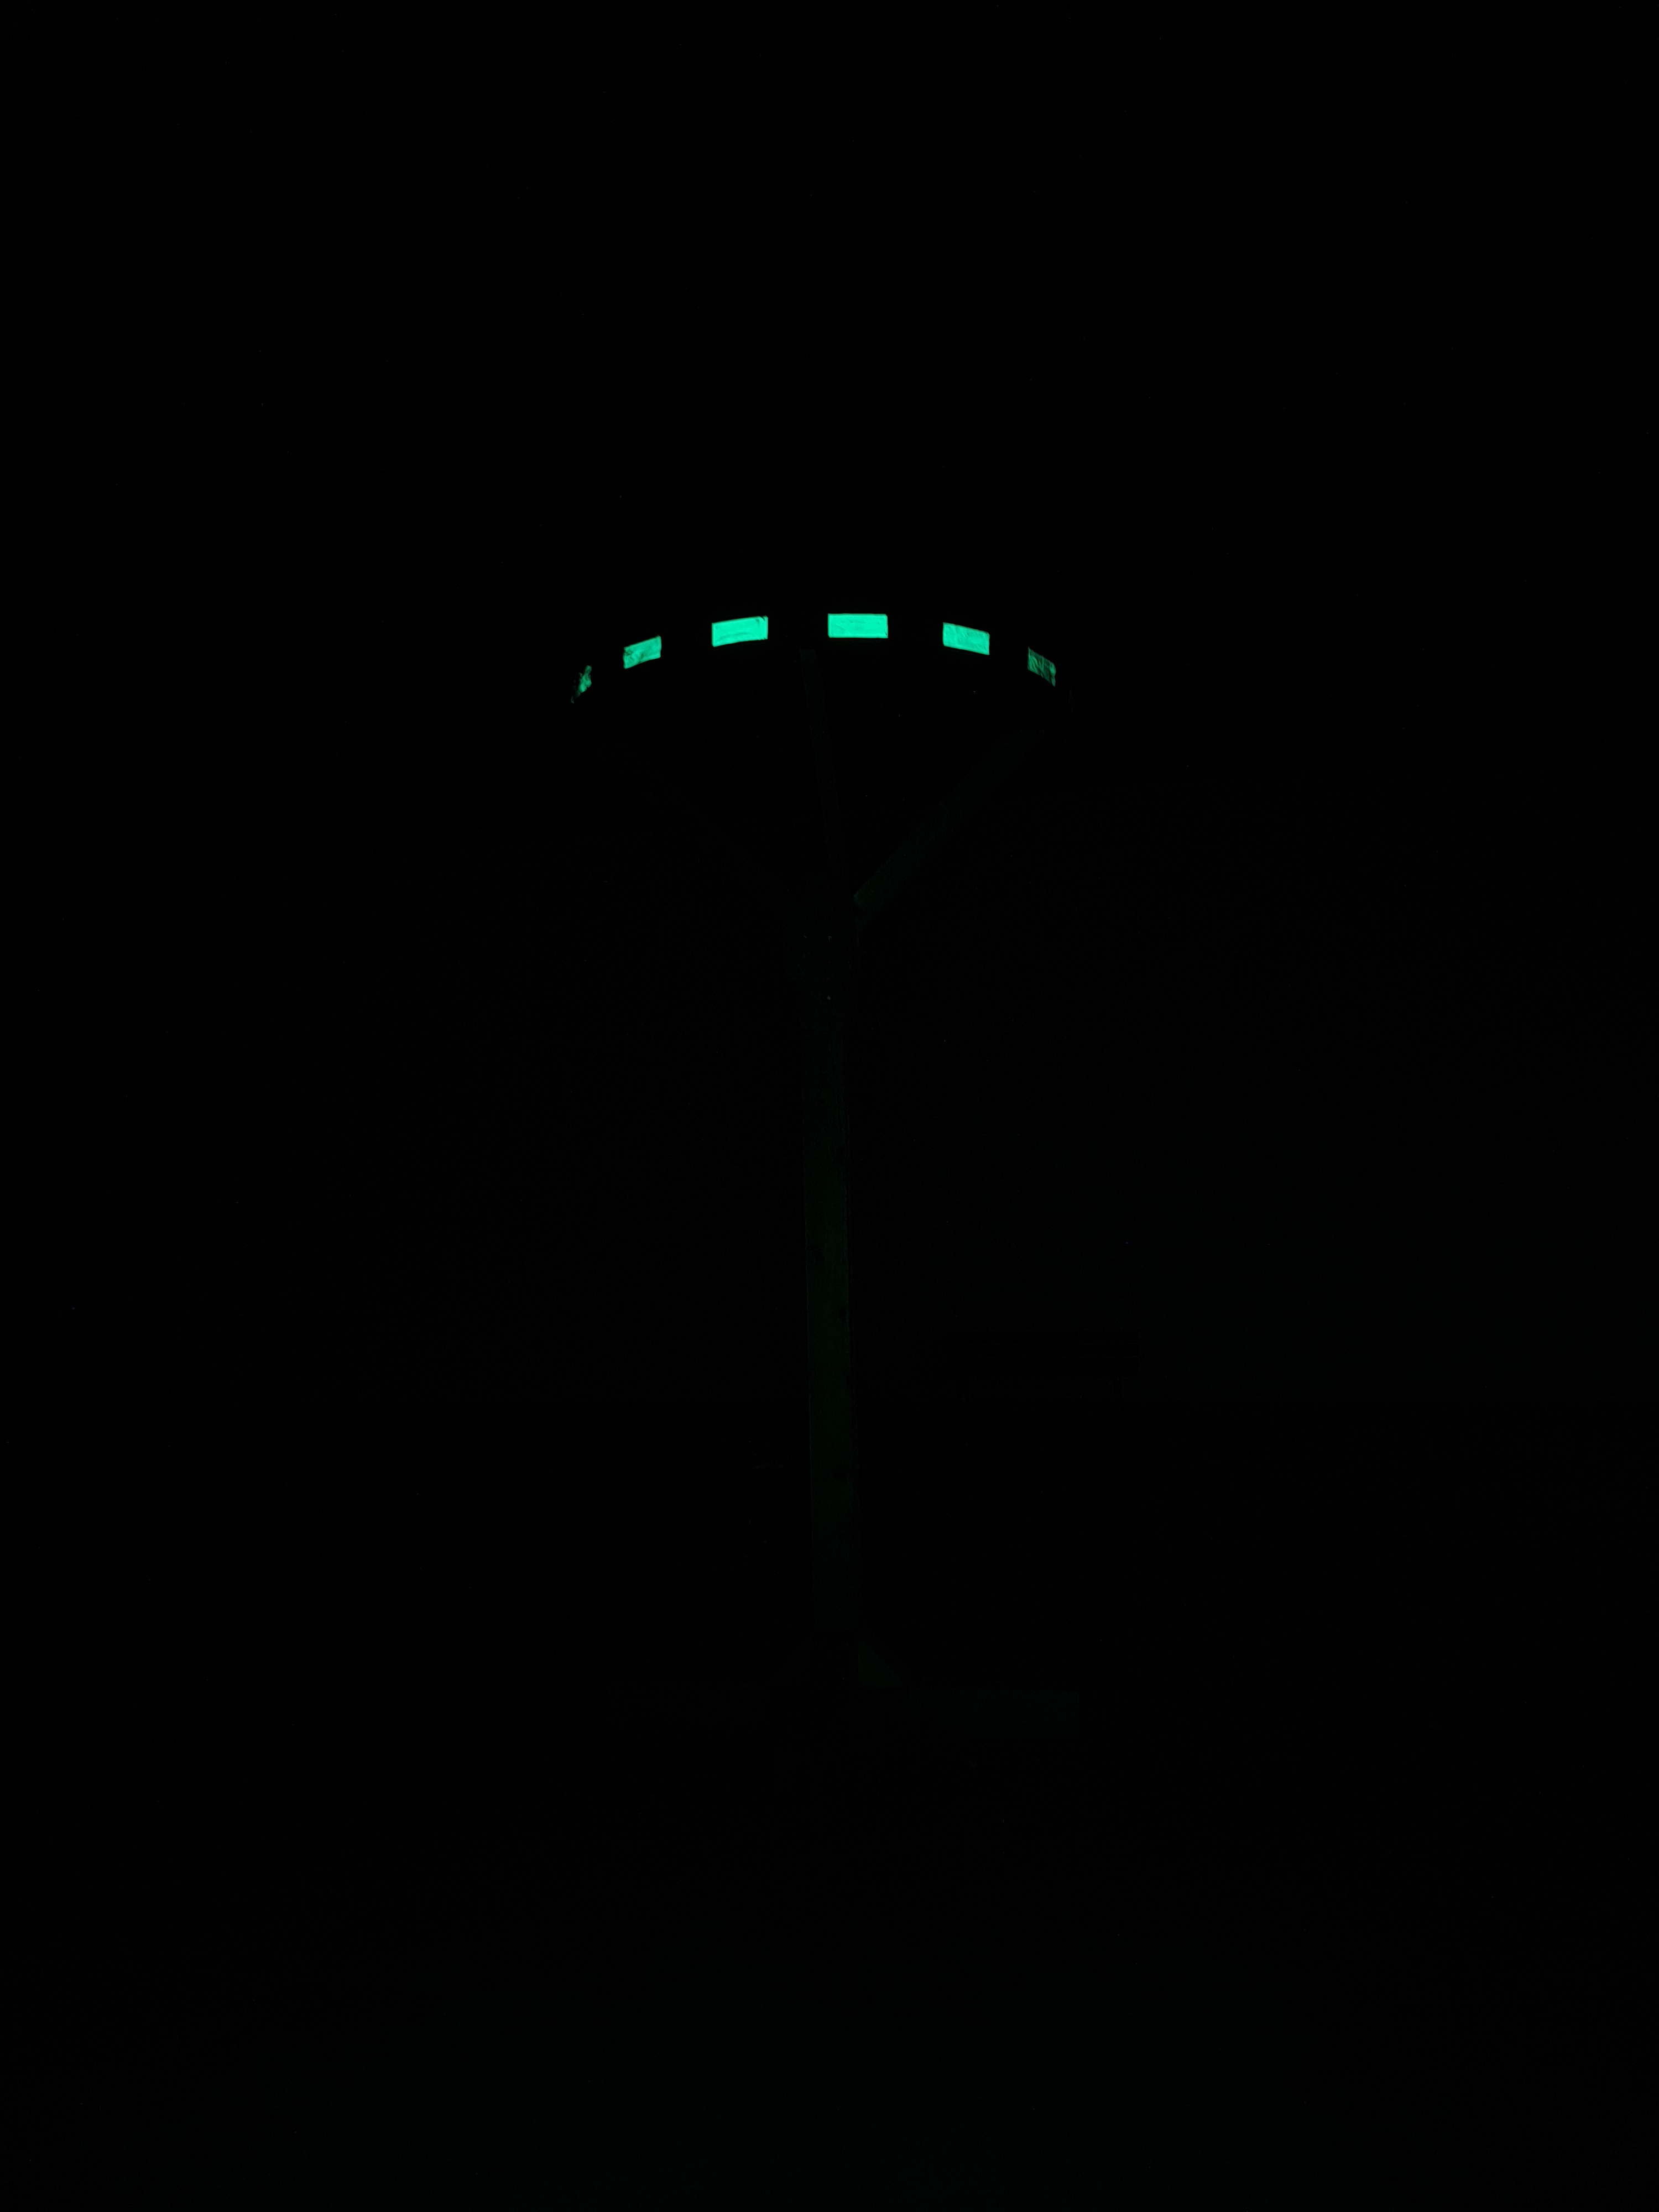hoop: (563, 604, 1060, 711)
